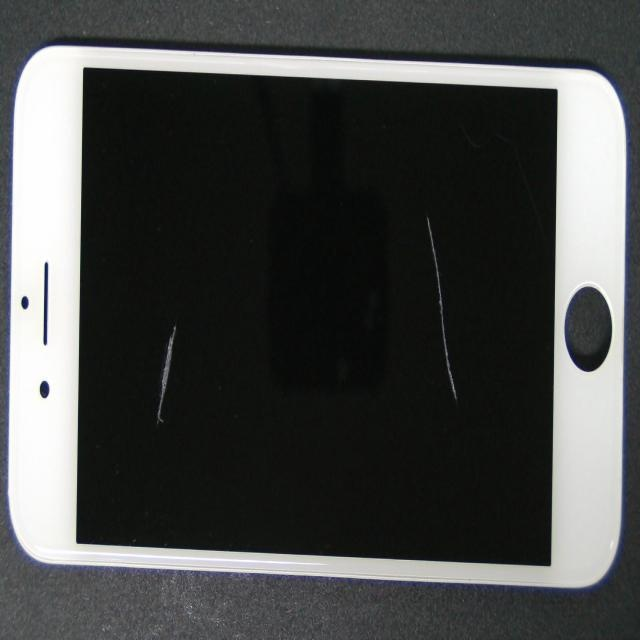scratch: (270, 299, 640, 499), (103, 168, 270, 476)
